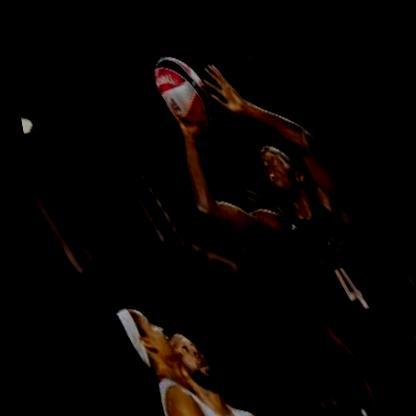basketball: (138, 36, 224, 130)
